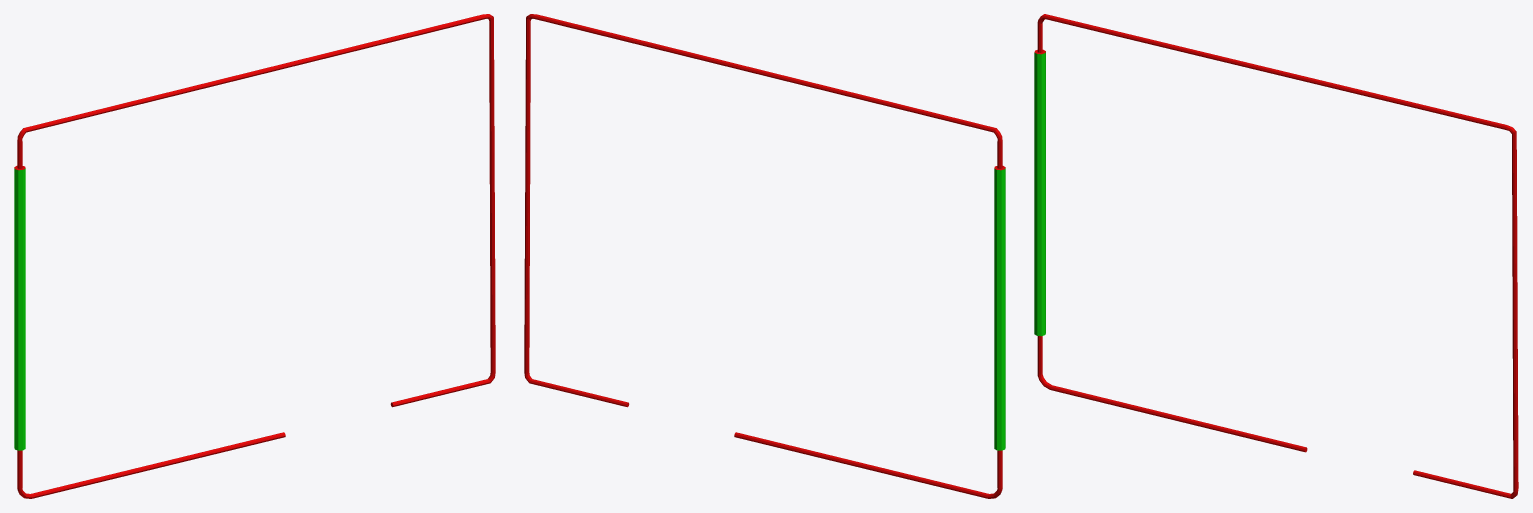
The model's file is Wall wire.fbx.
The picture shows the model from 3 angles, left to right: view 1: azimuth 30°, elevation 25°; view 2: azimuth 150°, elevation 25°; view 3: azimuth 330°, elevation 25°; orthographic projection.
Visible parts, largest first — view 1: pCylinder3; view 2: pCylinder3; view 3: pCylinder3.
Boxes of the visible parts, x1=… form: pCylinder3: x1=14, y1=14, x2=495, y2=498; pCylinder3: x1=524, y1=14, x2=1005, y2=498; pCylinder3: x1=1034, y1=14, x2=1518, y2=498.
Bounding box in the file's own units: 151 × 112 × 3.22.
